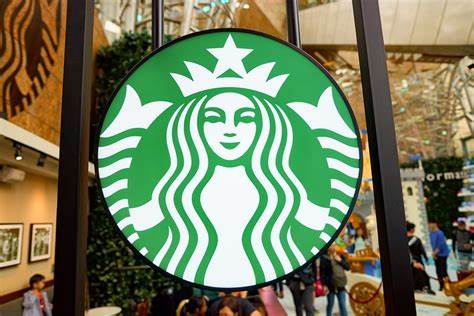starbucks Originale: (92, 26, 369, 289)
